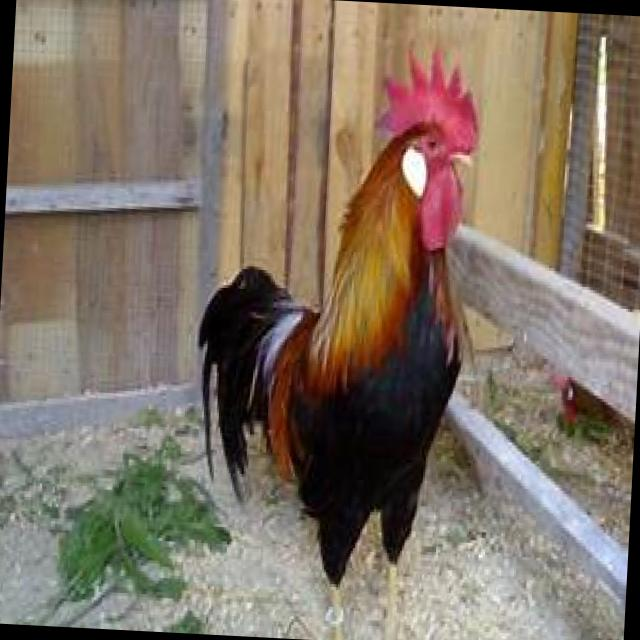chicken: (179, 31, 490, 640)
